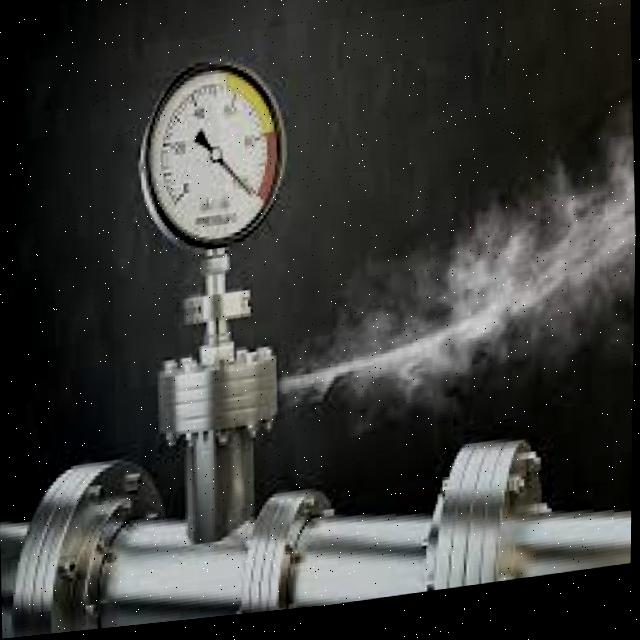corrosion: (183, 258, 478, 483)
